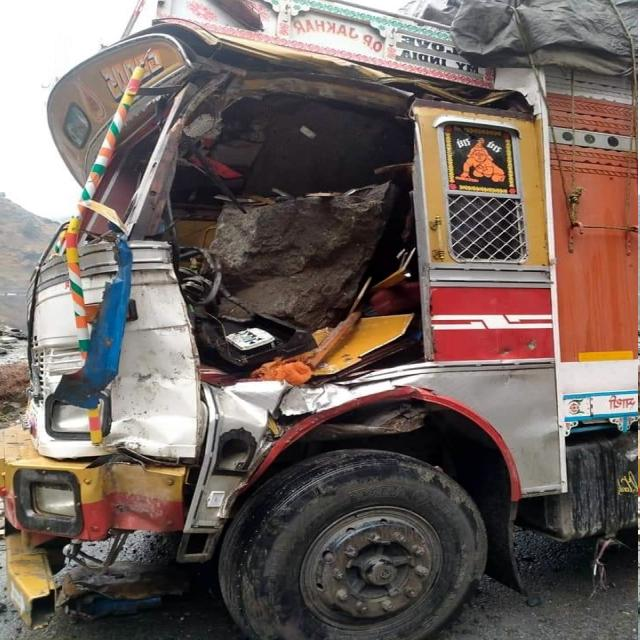accident: (0, 0, 638, 640)
